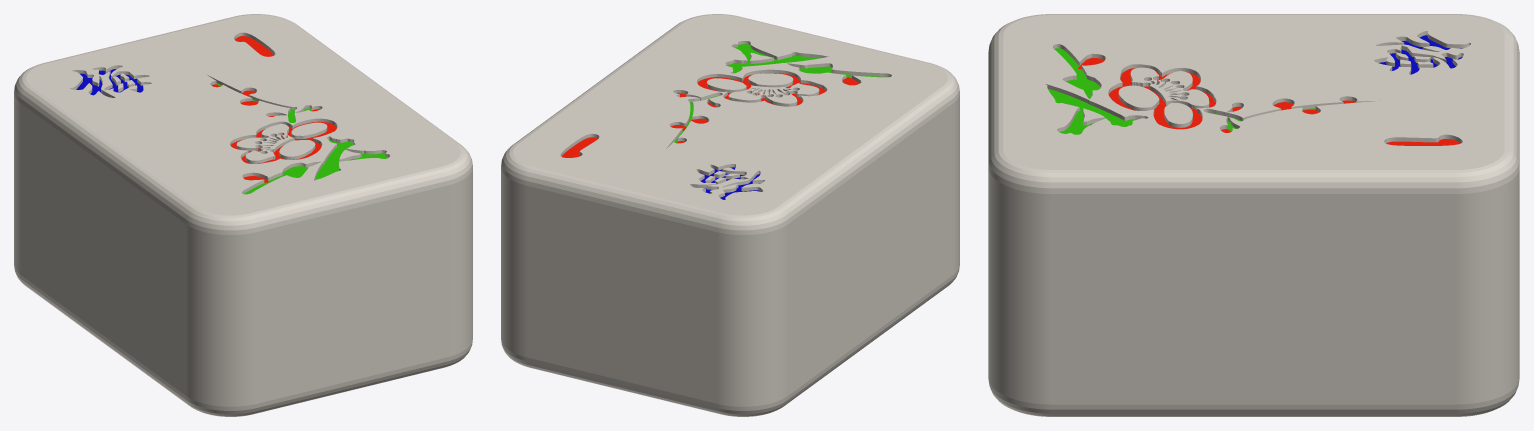
The model's file is mj-tile-stamp-pair-baseline-inlay.glb.
3 views of the same model, side by side, from view 1: azimuth 30°, elevation 25°; view 2: azimuth 150°, elevation 25°; view 3: azimuth 270°, elevation 25° (orthographic). The views are drawn at different scales.
Visible parts, largest first — view 1: tileStampPairMesh, tileFaceInlay-007-st10-1, tileFaceInlay-009-st7-5, tileFaceInlay-001-st8-0; view 2: tileStampPairMesh, tileFaceInlay-007-st10-1, tileFaceInlay-009-st7-5; view 3: tileStampPairMesh, tileFaceInlay-009-st7-5, tileFaceInlay-007-st10-1, tileFaceInlay-003-st10-0, tileFaceInlay-001-st8-0.
Part boxes in pixels (box(x1,y1,x2,y2)): tileStampPairMesh: box(14, 14, 472, 416); tileFaceInlay-007-st10-1: box(315, 139, 388, 179); tileFaceInlay-009-st7-5: box(230, 121, 336, 163); tileFaceInlay-001-st8-0: box(76, 69, 143, 95); tileStampPairMesh: box(501, 14, 959, 416); tileFaceInlay-007-st10-1: box(726, 44, 819, 73); tileFaceInlay-009-st7-5: box(697, 73, 825, 105); tileStampPairMesh: box(988, 14, 1519, 416); tileFaceInlay-009-st7-5: box(1109, 68, 1215, 129); tileFaceInlay-007-st10-1: box(1048, 88, 1137, 134); tileFaceInlay-003-st10-0: box(1054, 48, 1100, 98); tileFaceInlay-001-st8-0: box(1379, 35, 1462, 74).
Size of the model in its own units: 0.854 by 0.584 by 1.14.
